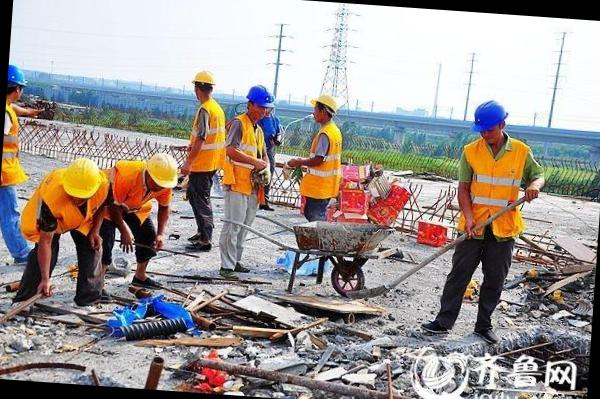Vest: (463, 142, 529, 240), (227, 116, 270, 200), (185, 98, 228, 172), (305, 124, 344, 202), (0, 106, 29, 188)
